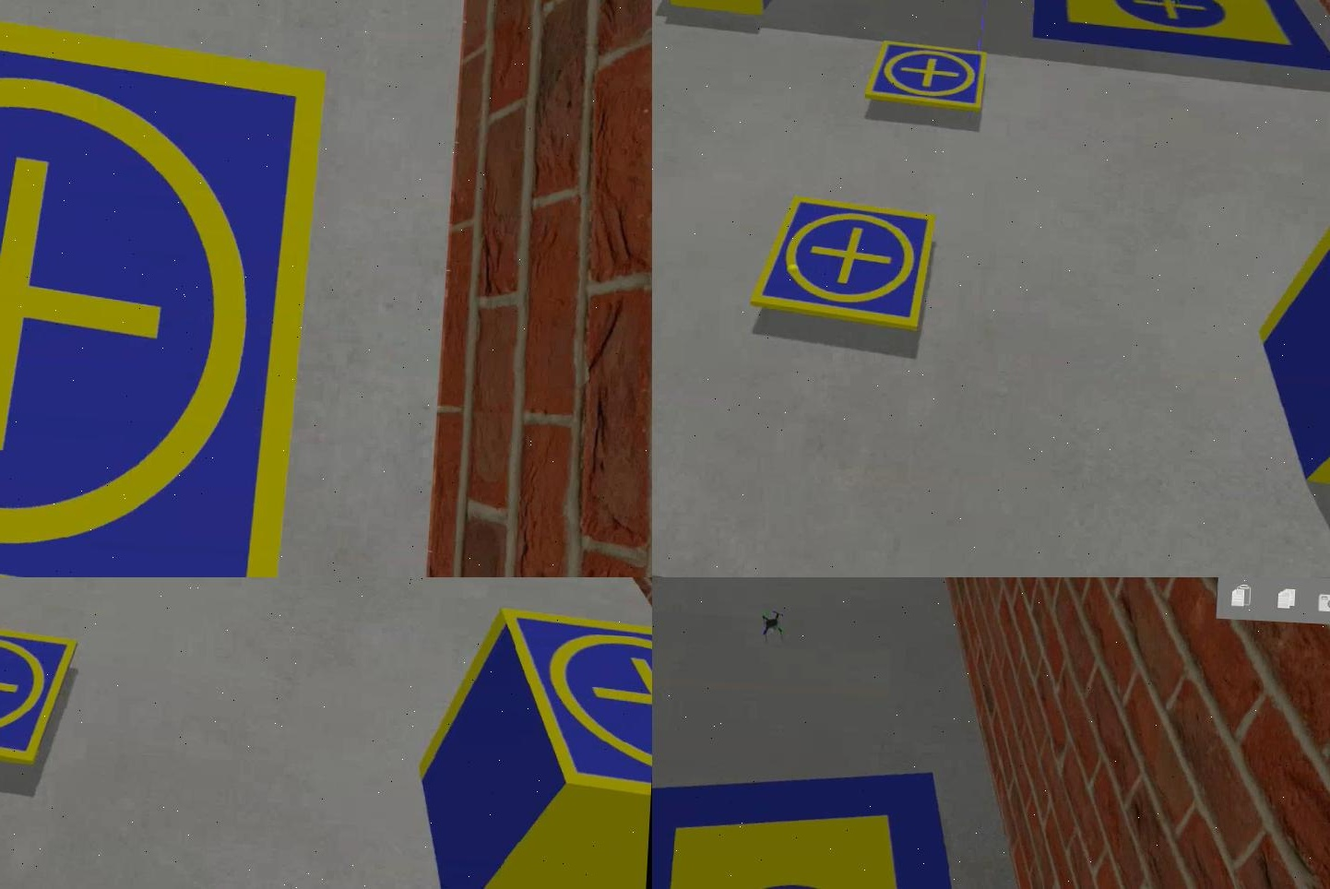large_base: (651, 751, 1030, 889), (1021, 1, 1328, 71)
small_base: (0, 1, 329, 578), (491, 601, 651, 790), (745, 195, 932, 341), (0, 616, 77, 765), (861, 39, 985, 111)
